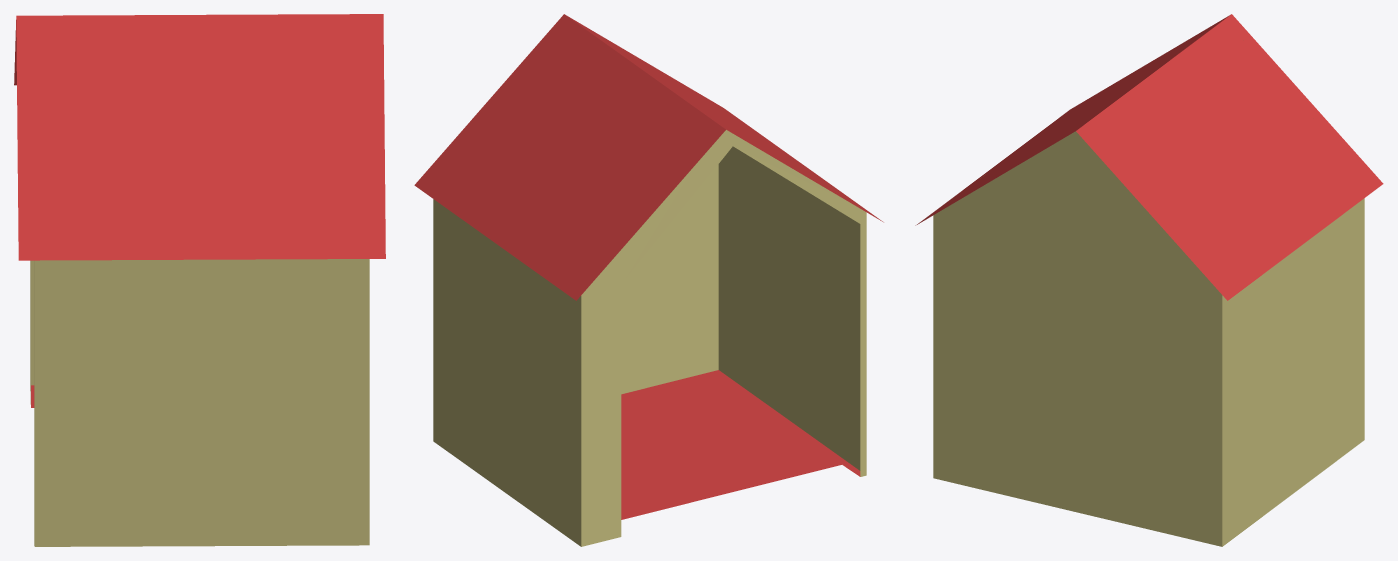
3 renders of one model, left to right at view 1: azimuth 30°, elevation 25°; view 2: azimuth 150°, elevation 25°; view 3: azimuth 270°, elevation 25°, orthographic. The views are drawn at different scales.
Size of the model in its own units: 16.31 by 16.88 by 15.39.
